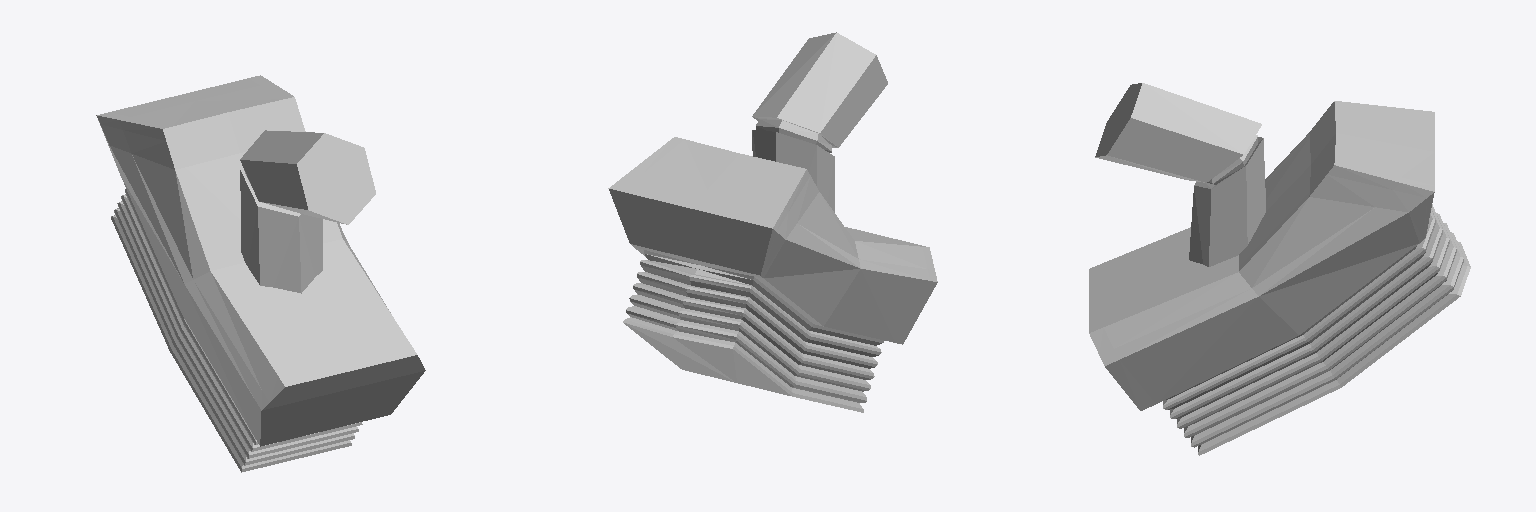
File: blownUpPieces-Chassis1.obj
3 views of the same model, side by side, from view 1: azimuth 30°, elevation 25°; view 2: azimuth 150°, elevation 25°; view 3: azimuth 270°, elevation 25° (orthographic).
Visible parts, largest first — view 1: Chassis-Lvl1-Base.005_Chassis-Lvl1_Cube.013; view 2: Chassis-Lvl1-Base.005_Chassis-Lvl1_Cube.013; view 3: Chassis-Lvl1-Base.005_Chassis-Lvl1_Cube.013.
Part boxes in pixels (x1,y1,x2,y2): Chassis-Lvl1-Base.005_Chassis-Lvl1_Cube.013: (96, 75, 425, 472); Chassis-Lvl1-Base.005_Chassis-Lvl1_Cube.013: (608, 32, 937, 412); Chassis-Lvl1-Base.005_Chassis-Lvl1_Cube.013: (1089, 83, 1470, 455).
Bounding box in the file's own units: 1.16 × 2.34 × 2.34.